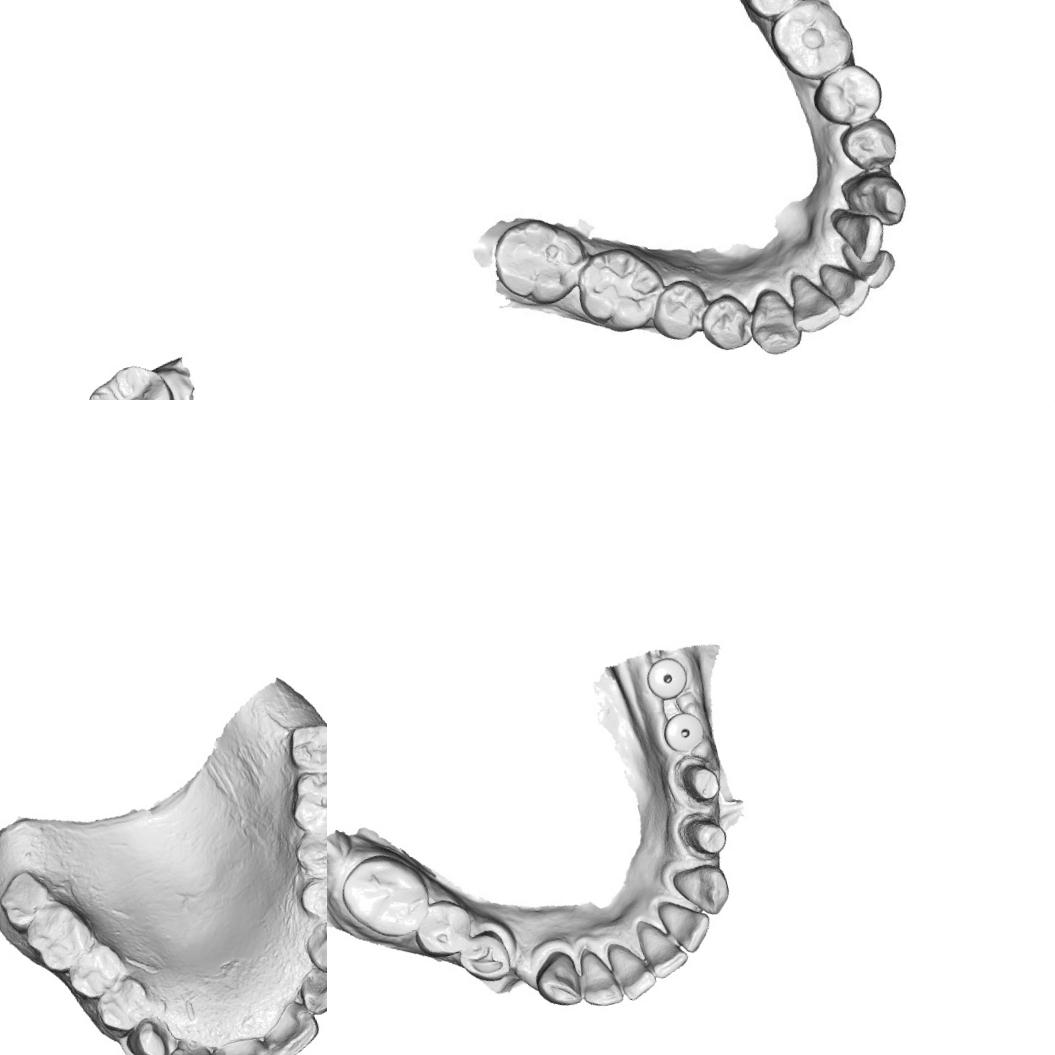canine: (742, 280, 807, 360), (666, 853, 735, 923), (844, 165, 913, 234), (528, 945, 586, 1013), (121, 1014, 175, 1055), (300, 918, 327, 979)
crown: (666, 748, 726, 810), (672, 804, 734, 864)
implant: (655, 705, 712, 760), (641, 652, 694, 706)
incisor: (817, 248, 879, 320), (633, 910, 693, 983), (654, 891, 718, 959), (838, 232, 904, 296), (569, 940, 626, 1014), (606, 935, 662, 1004), (782, 267, 838, 335), (257, 1002, 326, 1055), (834, 202, 889, 264), (293, 964, 327, 1019), (206, 1031, 281, 1055), (162, 1035, 215, 1055)
molar: (482, 210, 592, 316), (334, 846, 440, 956), (574, 246, 669, 341), (17, 893, 103, 982), (772, 0, 853, 82), (80, 351, 184, 400), (0, 862, 63, 937), (279, 764, 327, 843), (282, 716, 327, 781), (731, 0, 815, 27)
premolar: (804, 55, 892, 130), (407, 892, 481, 963), (60, 936, 134, 1006), (88, 968, 160, 1038), (646, 276, 714, 348), (453, 922, 519, 988), (695, 287, 757, 355), (835, 113, 901, 176), (290, 823, 327, 884), (294, 869, 327, 931)
